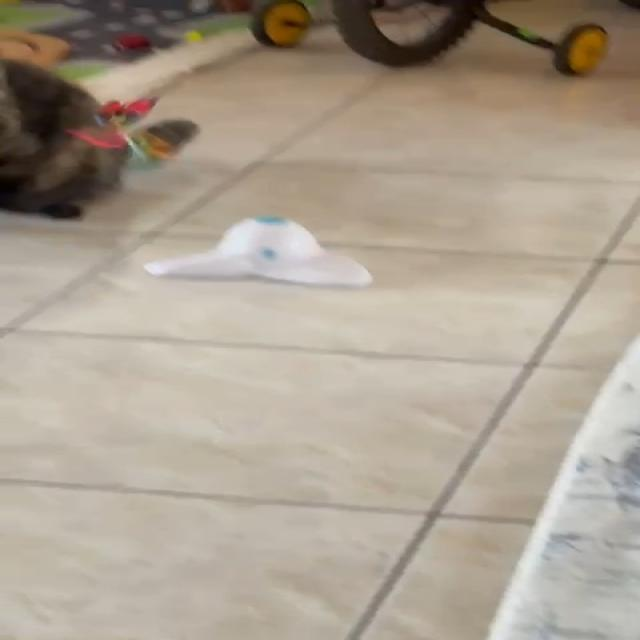authorized: (0, 57, 199, 220)
